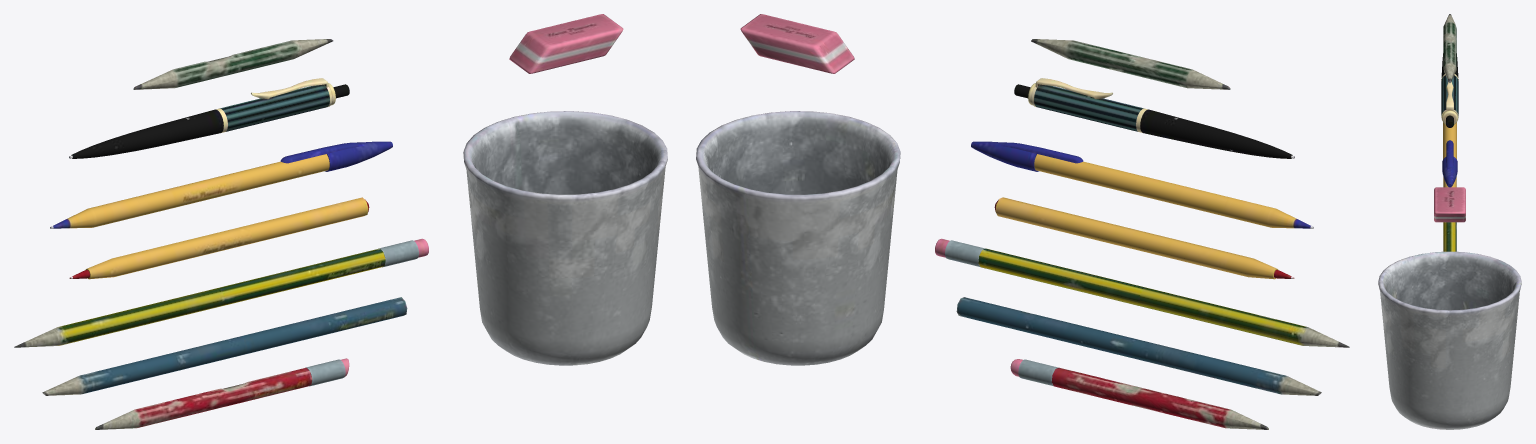
The model's file is stationery_supplies.glb.
3 renders of one model, left to right at view 1: azimuth 30°, elevation 25°; view 2: azimuth 150°, elevation 25°; view 3: azimuth 270°, elevation 25°, orthographic. The views are drawn at different scales.
Parts seen in each view (by area): view 1: stationery_supplies_pen_red; view 2: stationery_supplies_pen_red; view 3: stationery_supplies_pen_red.
Part boxes in pixels (left/top/right/bottom): stationery_supplies_pen_red: left=14, top=14, right=667, bottom=429; stationery_supplies_pen_red: left=696, top=14, right=1349, bottom=429; stationery_supplies_pen_red: left=1378, top=14, right=1521, bottom=429.
Size of the model in its own units: 0.3019 by 0.1644 by 0.0837.
1 material, 1 textured.
